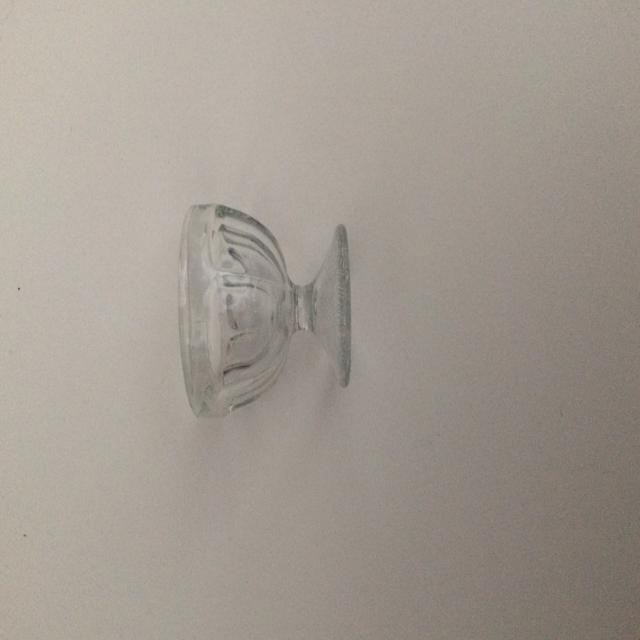glass: (177, 201, 352, 418)
